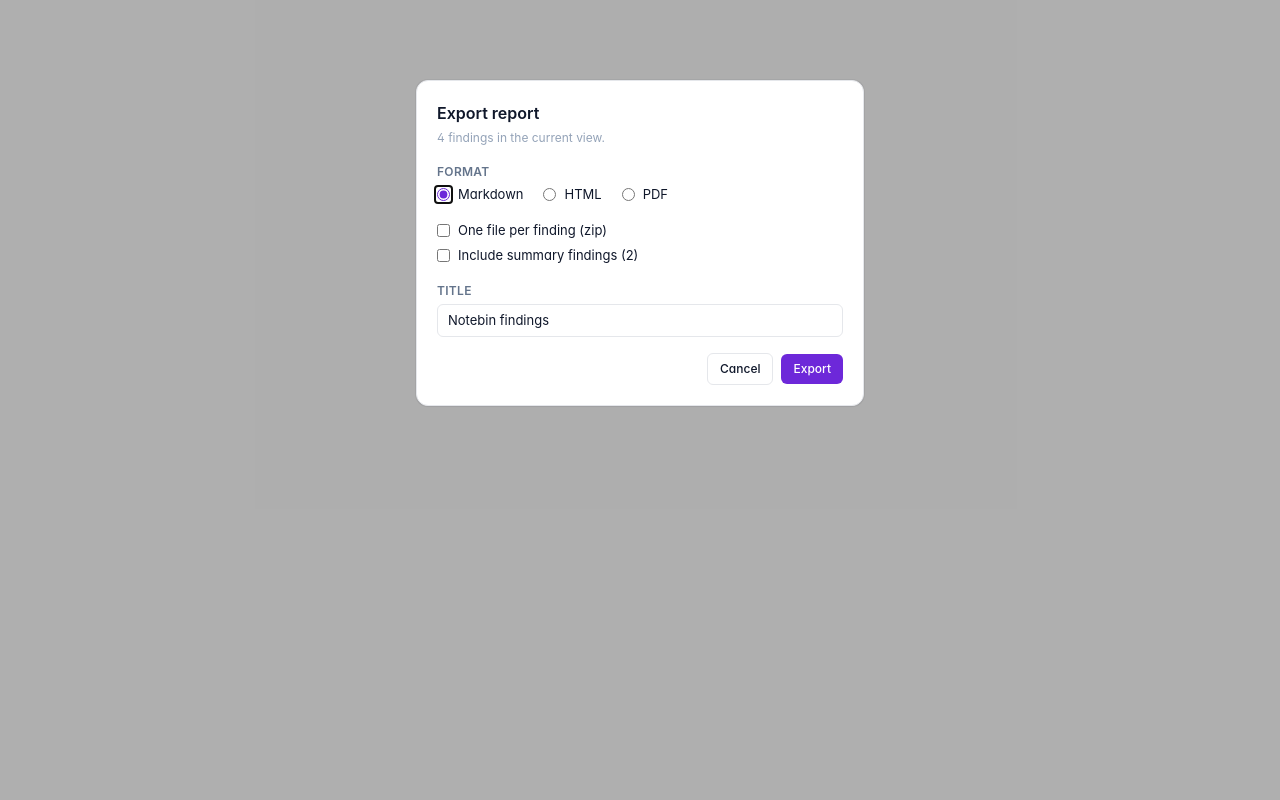
Test: ExportDialog › shows a rejected export inline and stays open for another try
Click the radio button labelled "PDF" at (628,195), box [622,188,635,201]
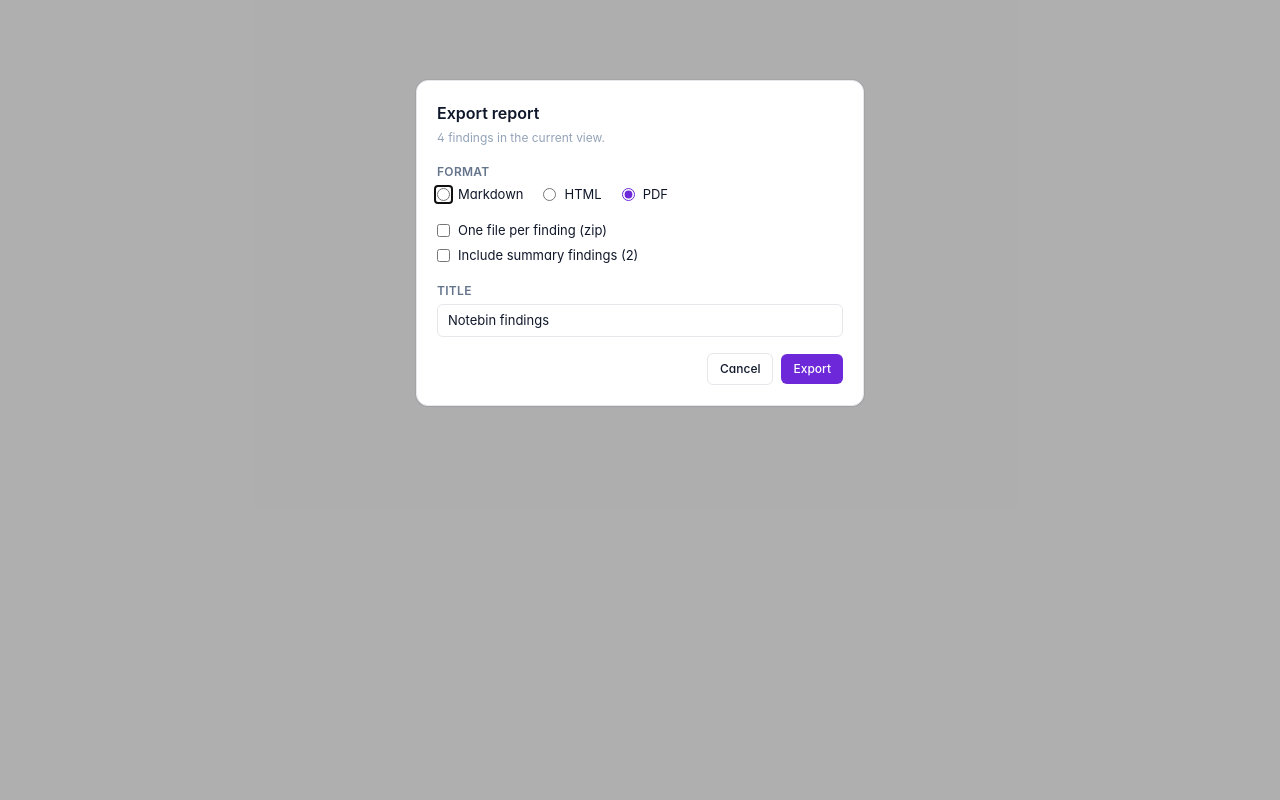
Click the button "Export" at (812,369), box [782,354,843,384]
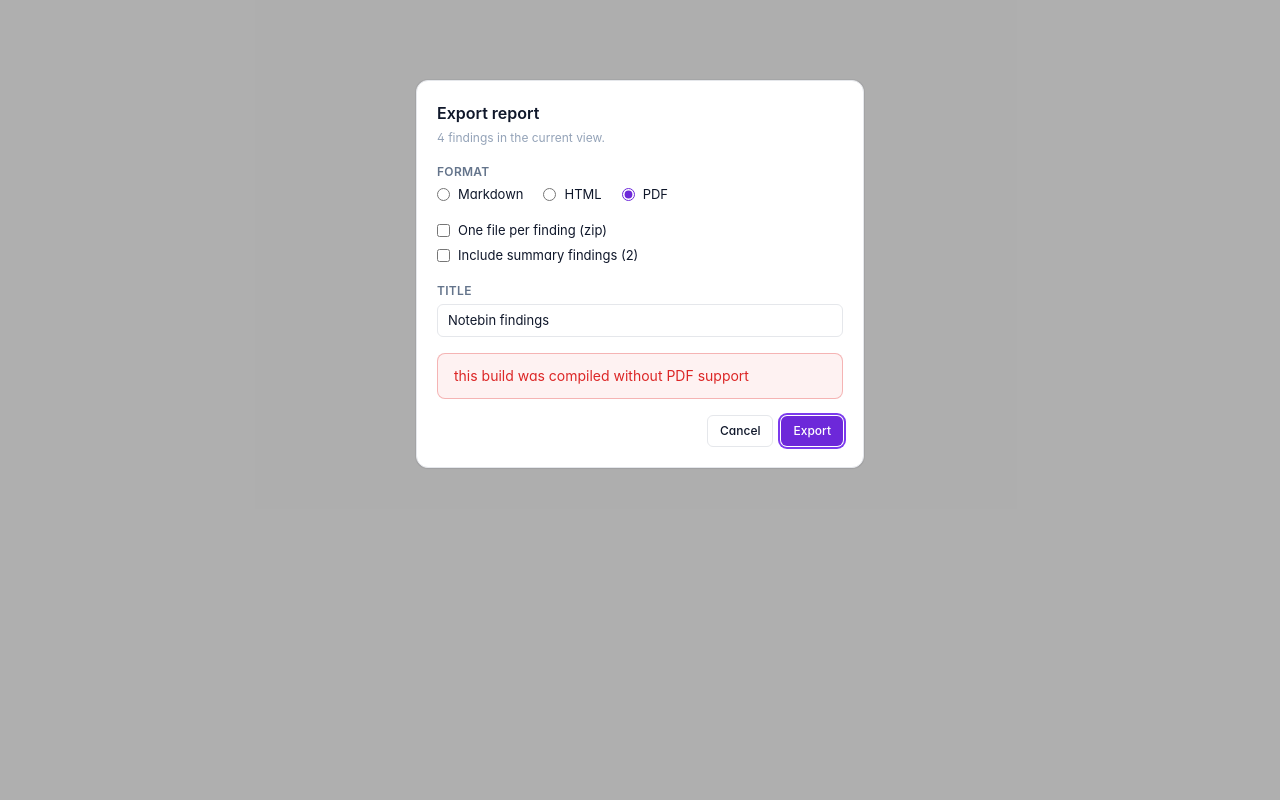
Expected: the message does not show "{", [437,353,843,399]
Now the message reads "this build was compiled without PDF support", box [454,367,749,384]
Click the radio button labelled "Markdown" at (444,195), box [437,188,450,201]
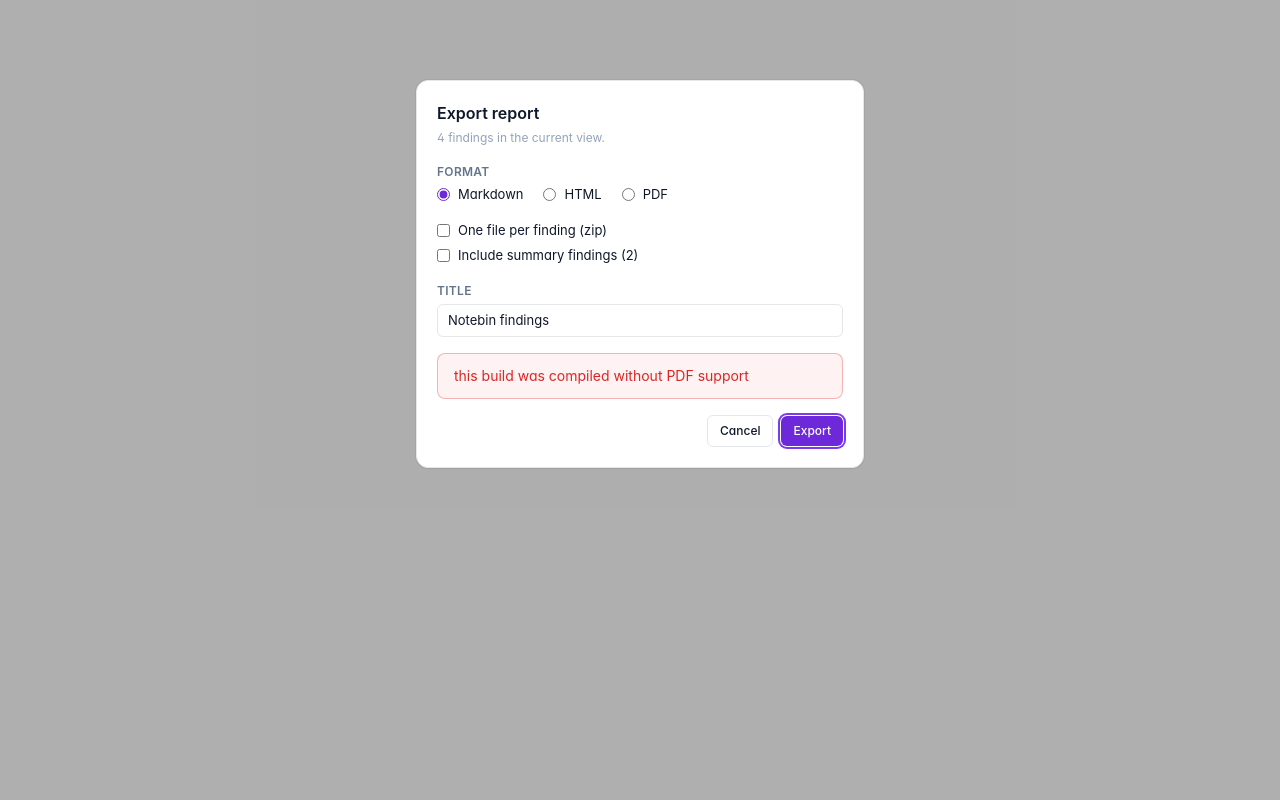
Click the button "Export" at (812,431), box [782,416,843,446]
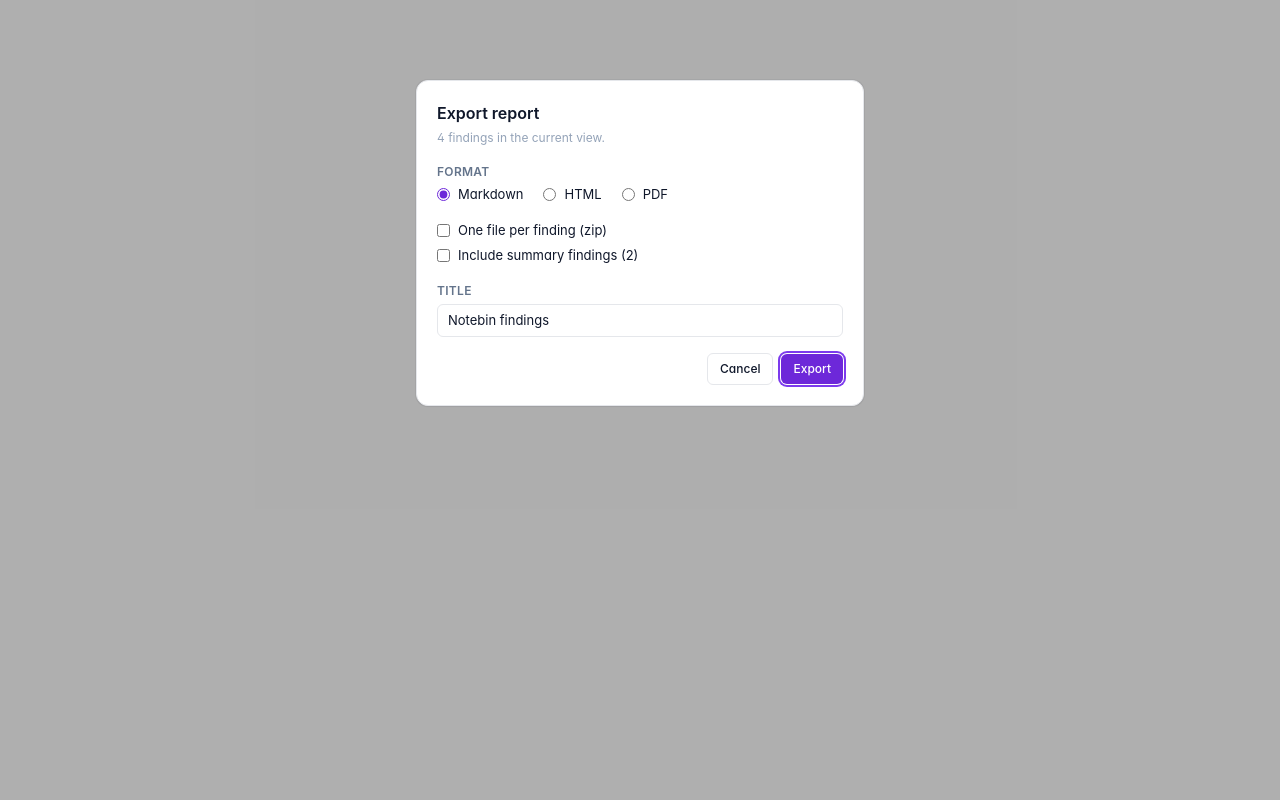
Now the message "this build was compiled without PDF support" is gone
